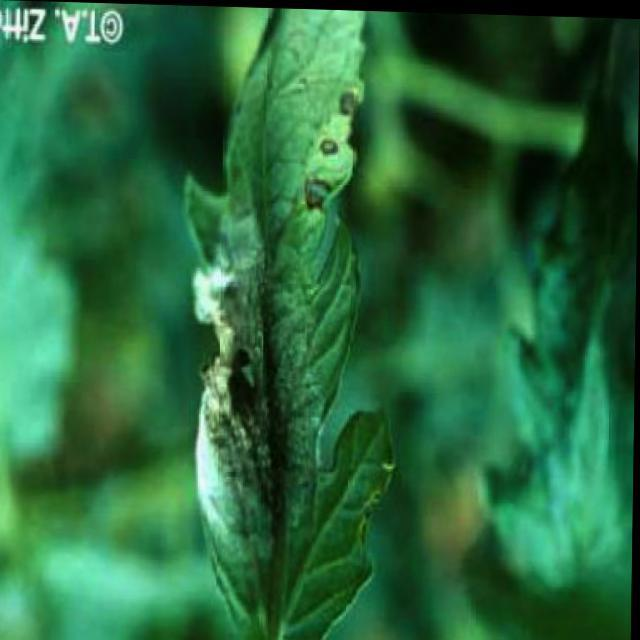Tomato mosaic virus leaf: (145, 4, 395, 639)
